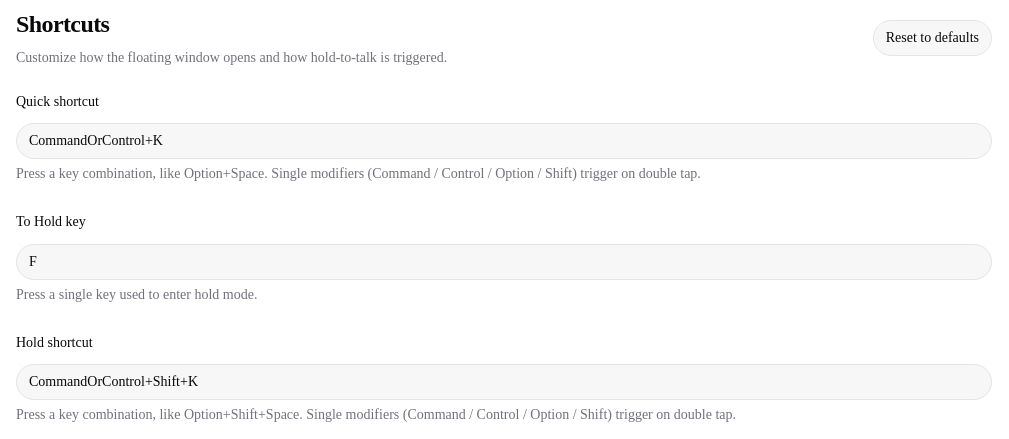
Test case: Shortcuts › resets editor values back to defaults without persisting immediately
The width and height of the screenshot is (1009, 439).
Click the button "Reset to defaults" at coordinates (932, 38), box [873,20,992,56]
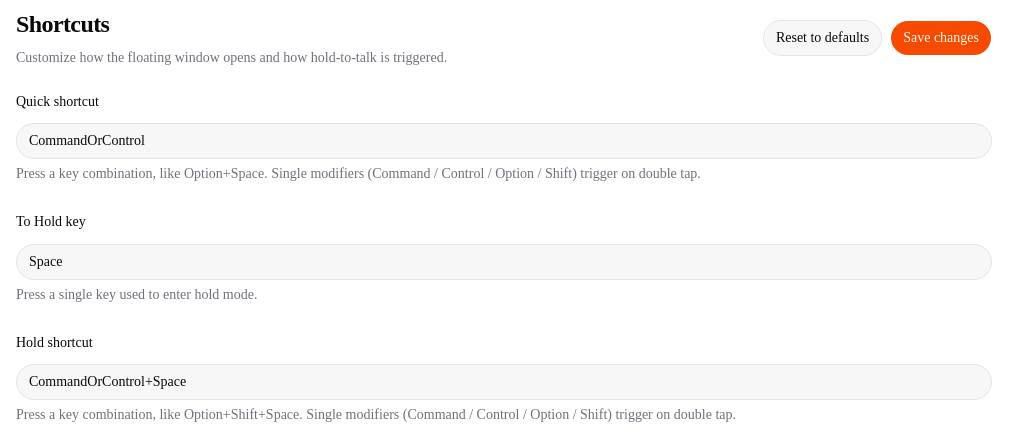
Expected: the field labelled "Quick shortcut" holds "CommandOrControl", [16,123,992,159]
Expected: the field labelled "To Hold key" holds "Space", [16,244,992,280]
Expected: the field labelled "Hold shortcut" holds "CommandOrControl+Space", [16,364,992,400]
